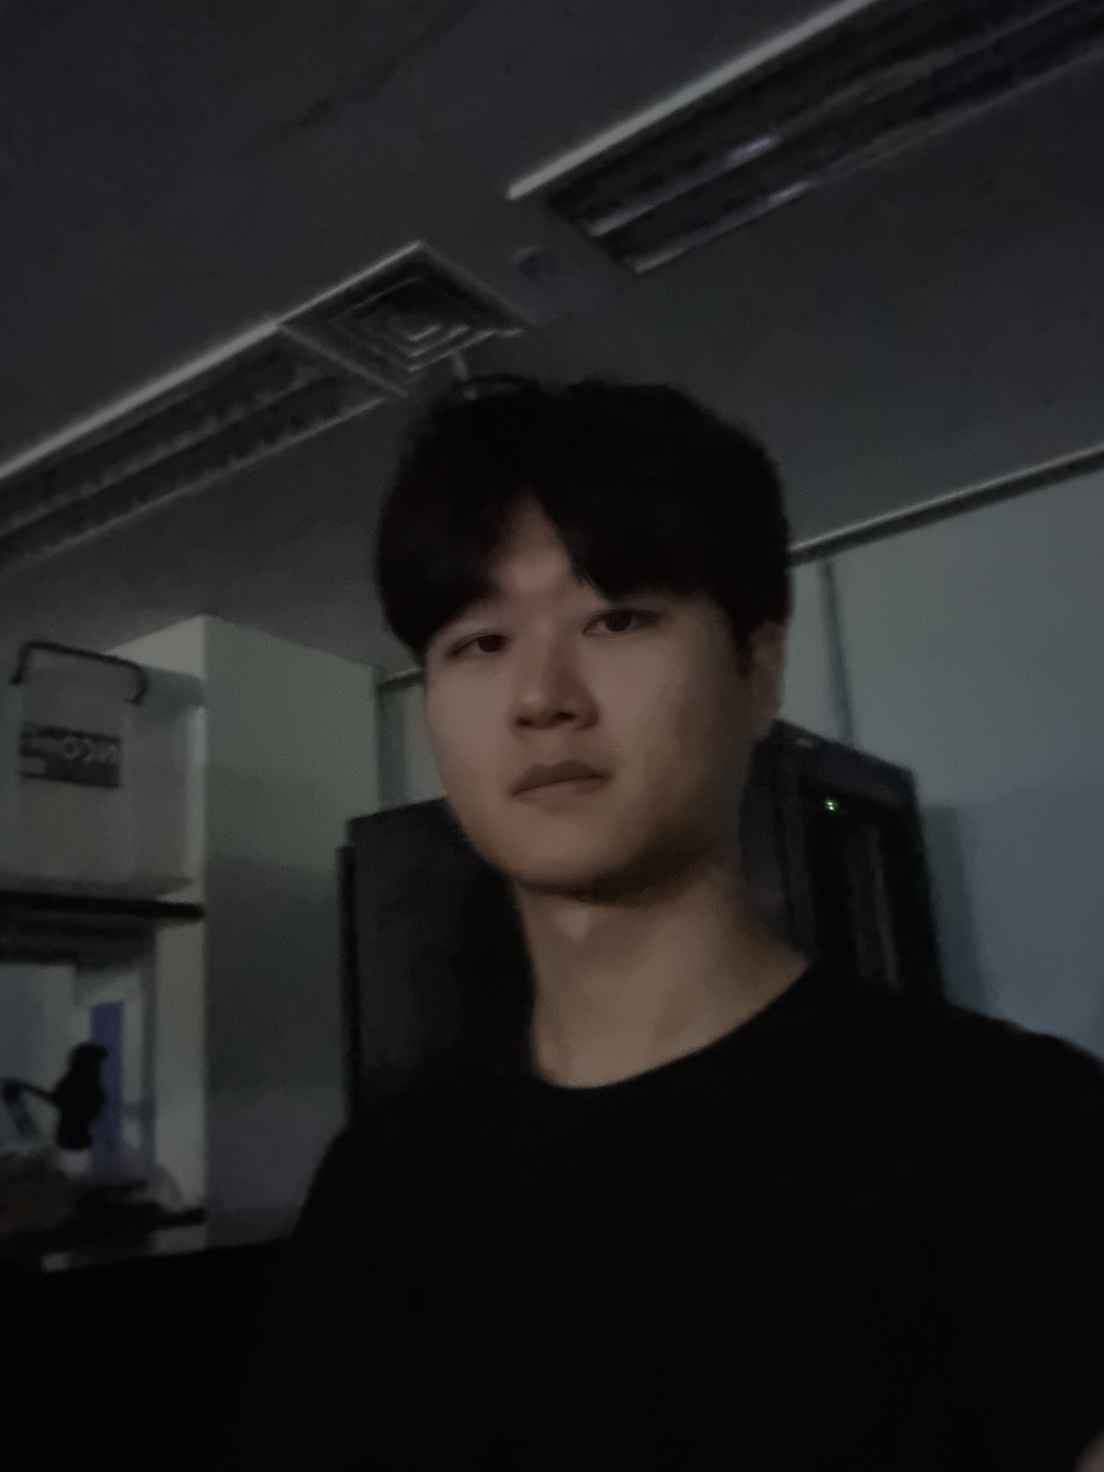Non-Helmet: (331, 347, 862, 923)
